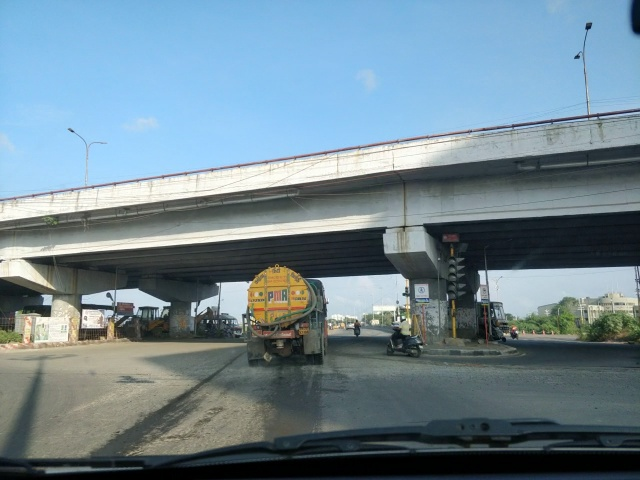motorbike: (393, 314, 425, 359), (349, 313, 362, 338), (510, 321, 523, 342)
truck: (246, 271, 329, 366), (476, 294, 512, 334)
